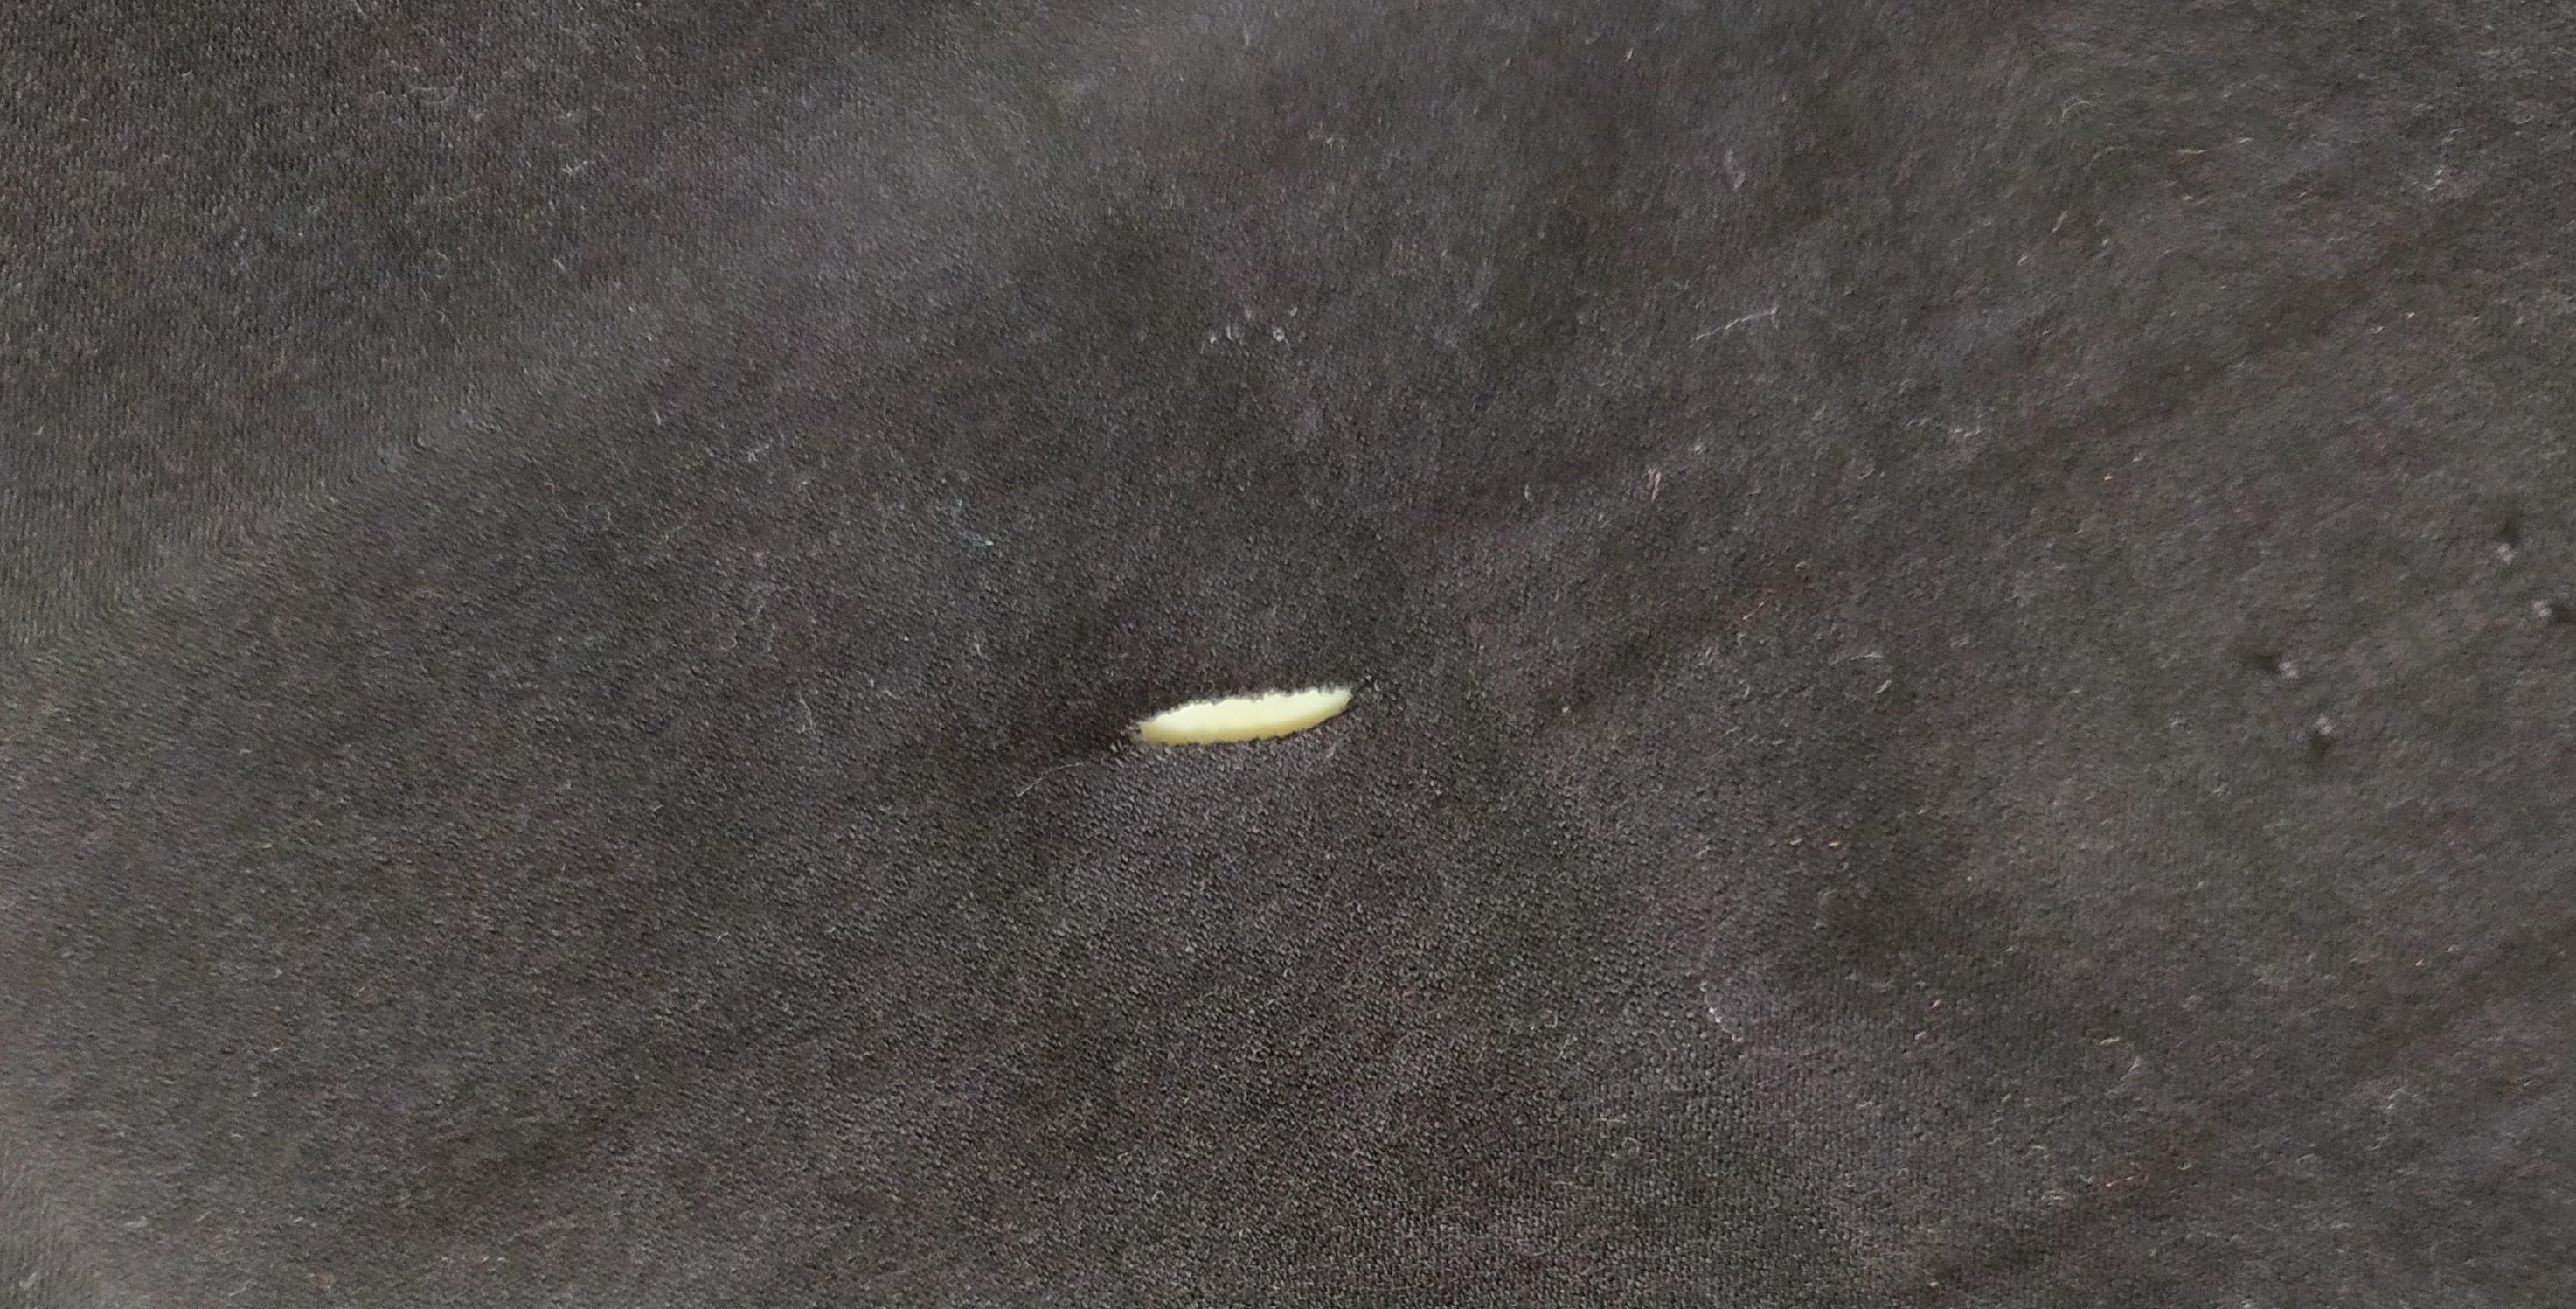hole: (1096, 660, 1366, 790)
